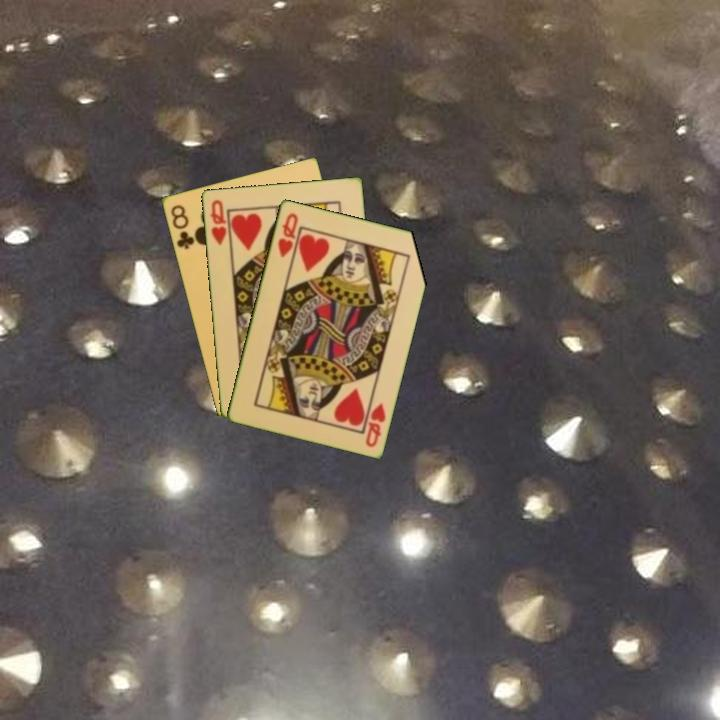8c: (167, 201, 197, 252)
Qh: (274, 209, 301, 260), (362, 399, 388, 450), (206, 196, 229, 248)
